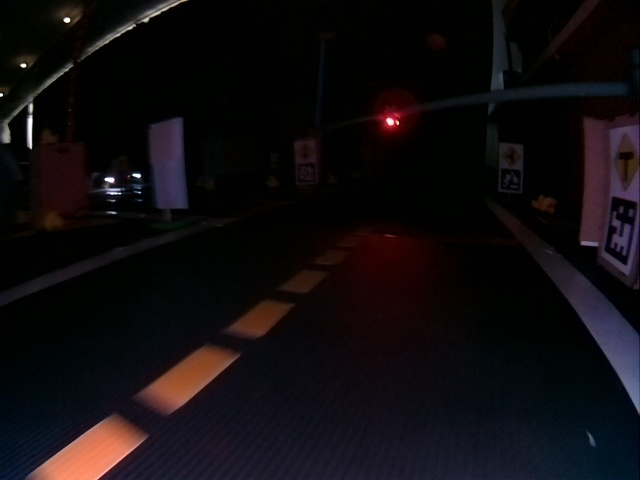Duckie: (543, 197, 556, 210), (532, 195, 546, 207)
Intersection sign: (613, 131, 635, 191), (502, 147, 522, 167)
QR code: (604, 197, 630, 263), (502, 170, 522, 193), (296, 164, 316, 182)
Signal sign: (295, 141, 314, 161)
Traffic light: (381, 111, 401, 130)
